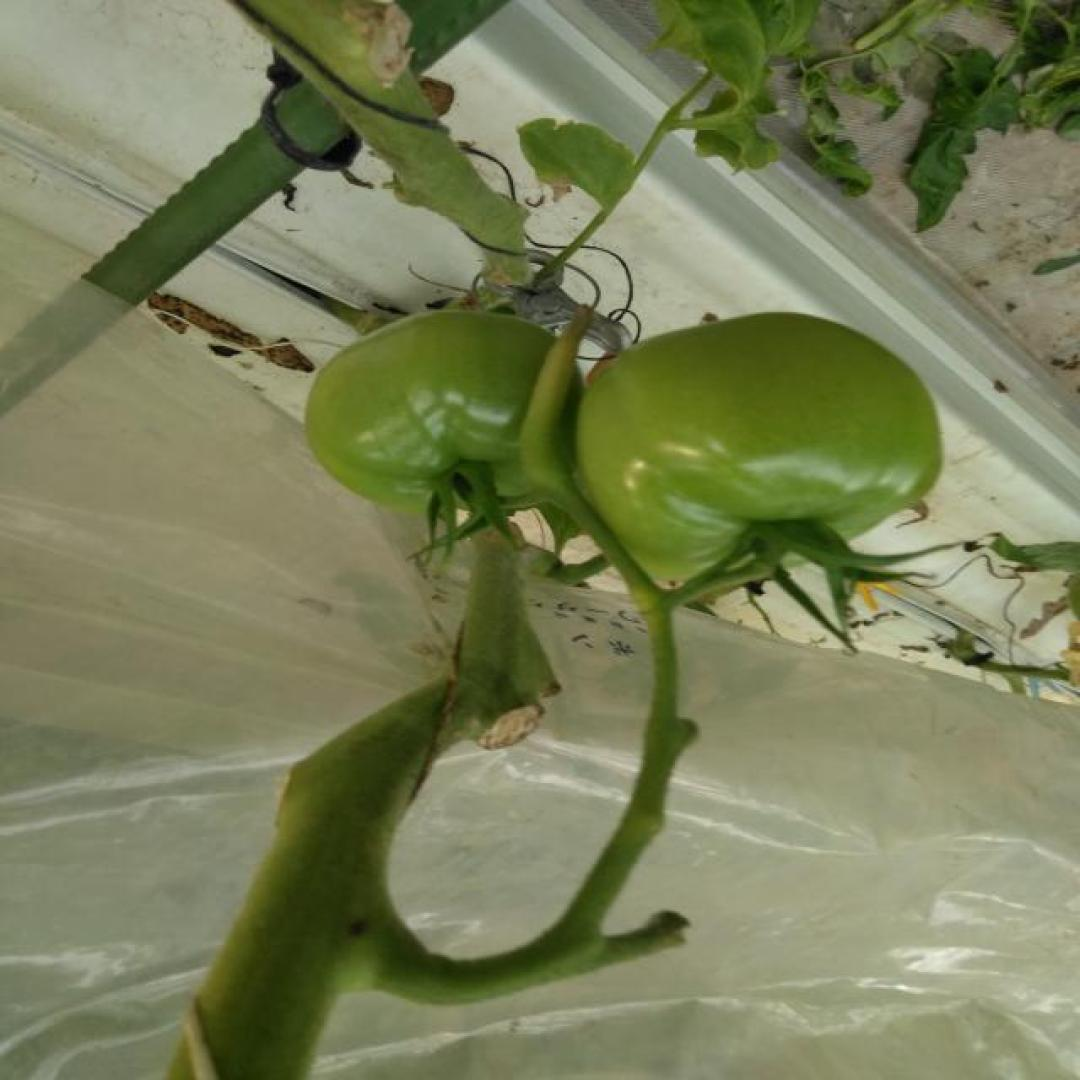mentah: (576, 312, 944, 581), (299, 309, 594, 513)
